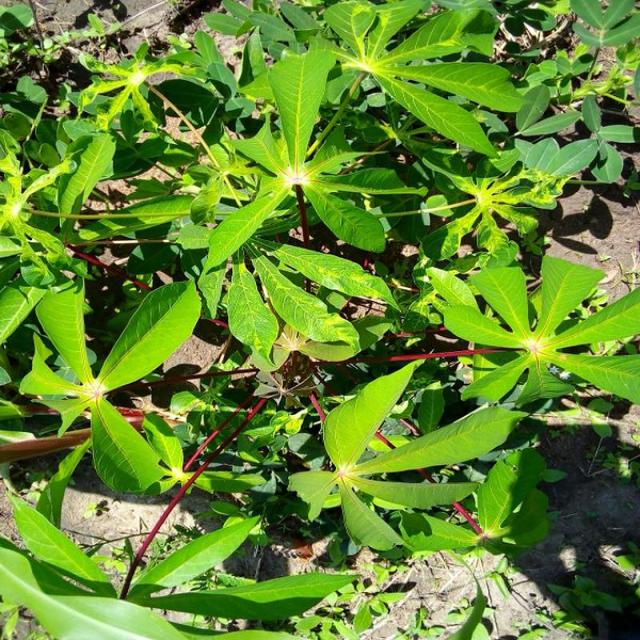cassava leaf: (2, 0, 640, 636), (98, 276, 203, 393)
